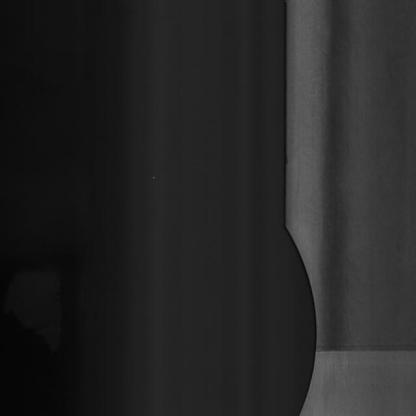crescent_gap: (280, 212, 324, 415)
welding_line: (314, 336, 415, 360)
